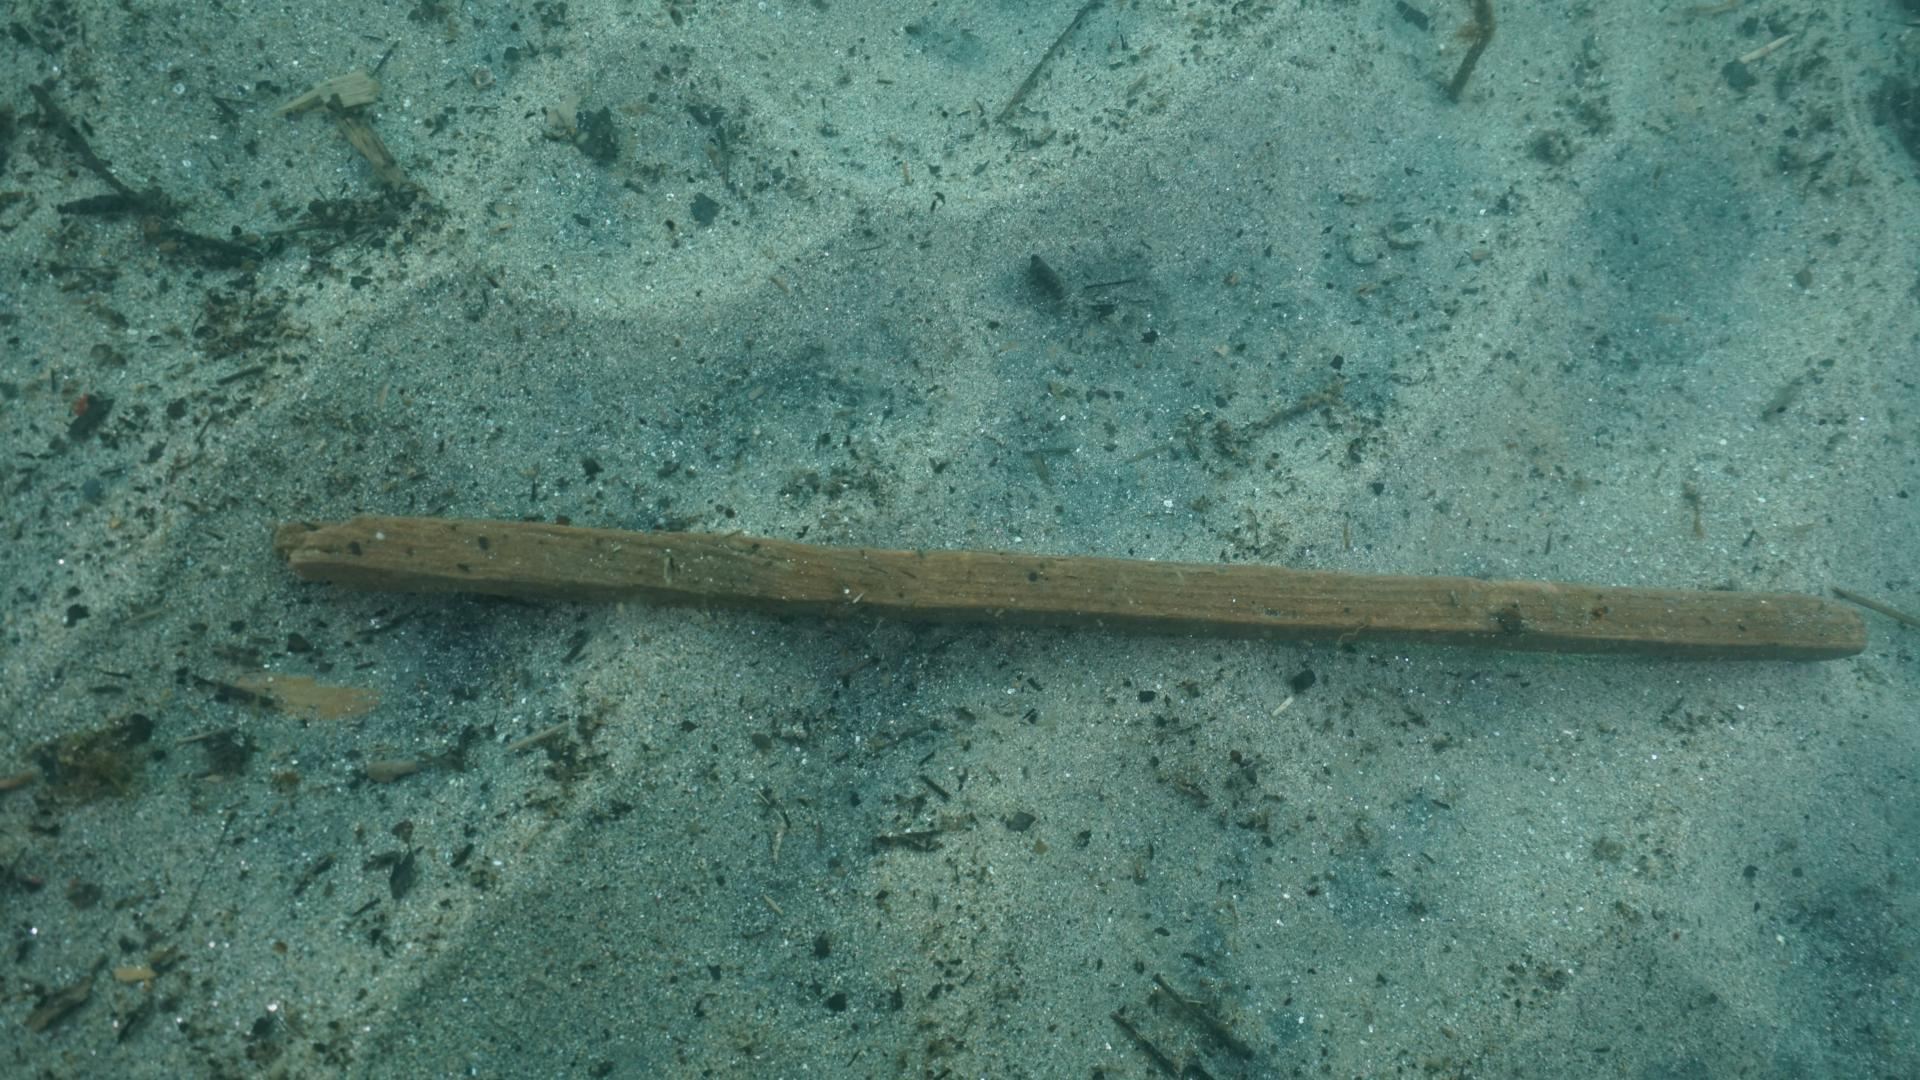wood: (274, 512, 1869, 665)
